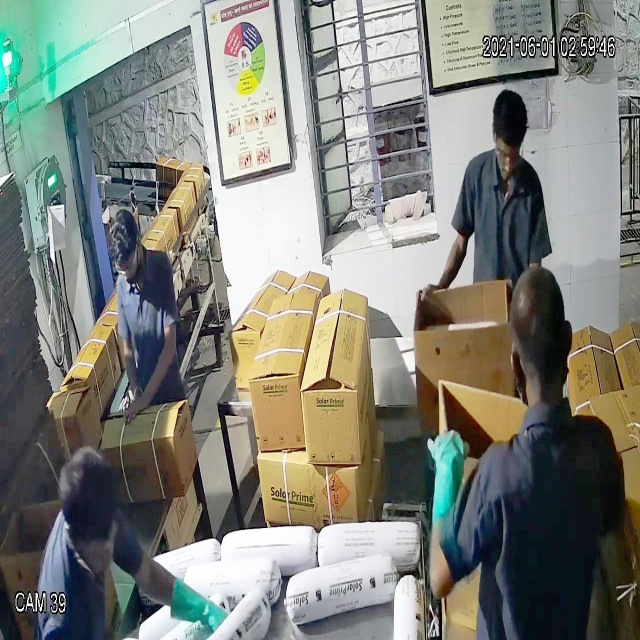Gafas: (110, 249, 149, 286)
